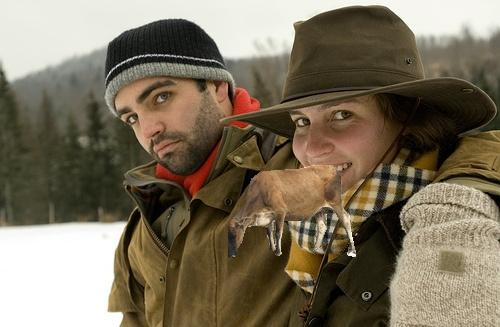tampered: (229, 166, 356, 258)
